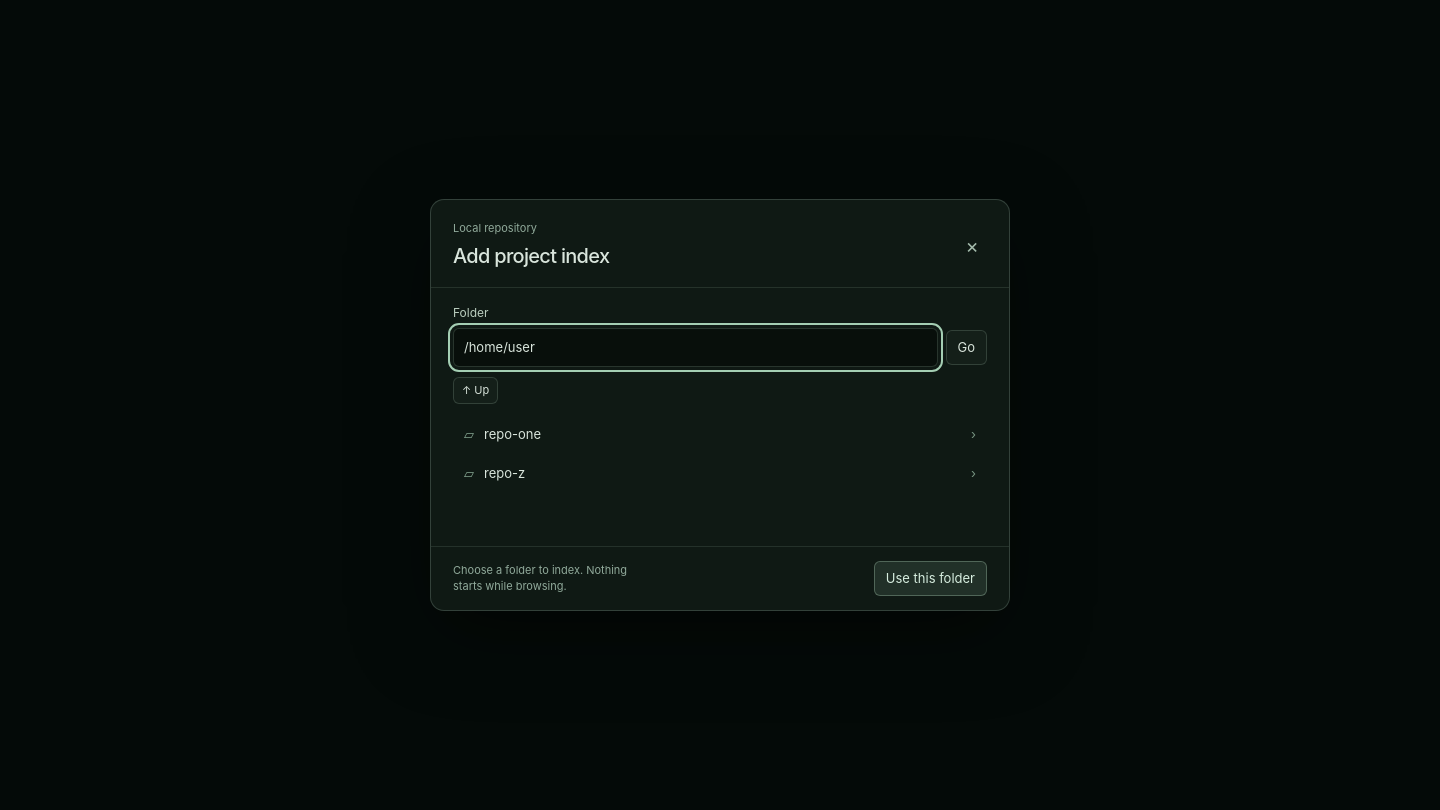
AddProjectIndexDialog › keeps an unconfirmed write explicit and never retries it automatically
This screenshot has width=1440, height=810.
Click the button "▱ repo-one ›": (513, 434) left=453, top=414, right=987, bottom=454
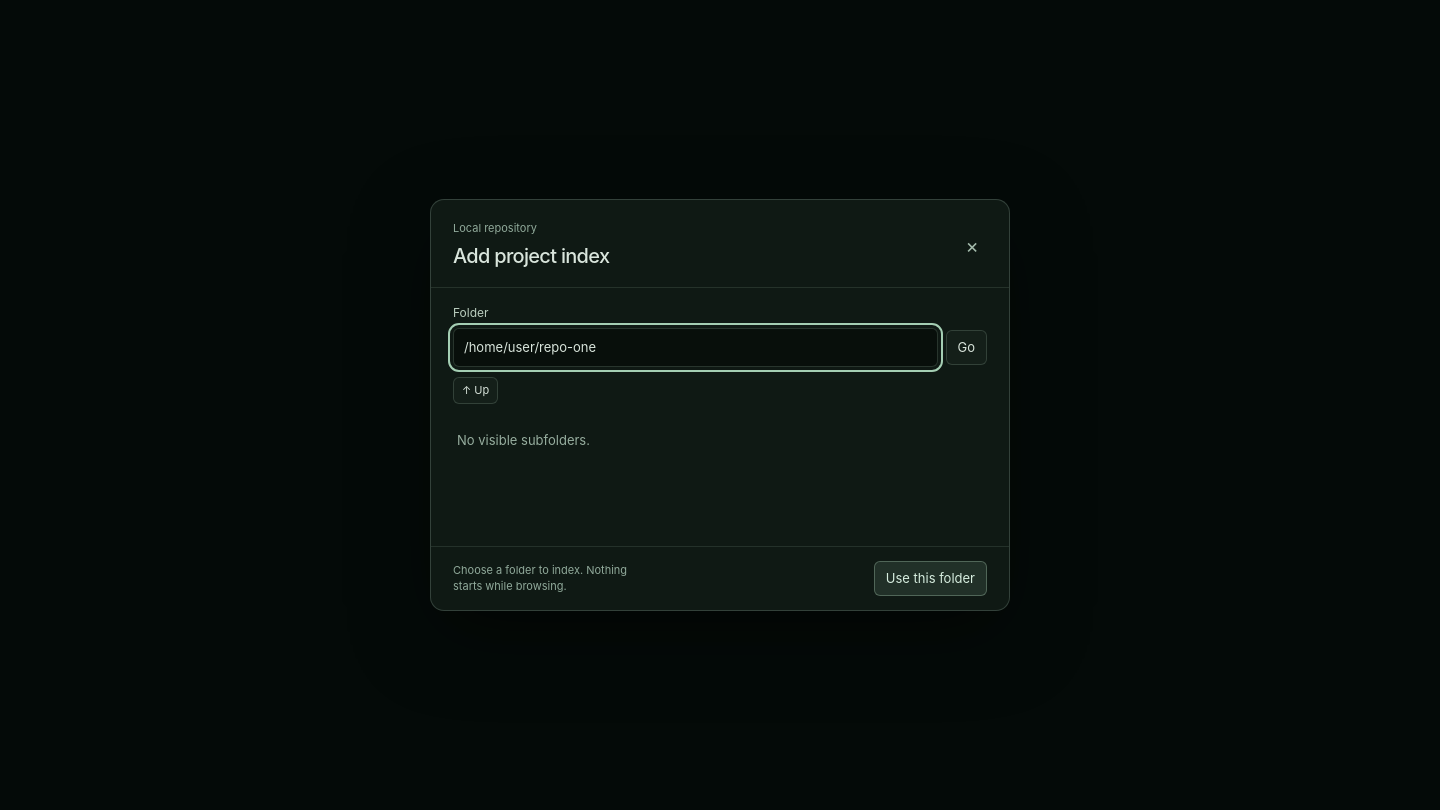
Click the button "Use this folder": (930, 578) left=874, top=560, right=987, bottom=596
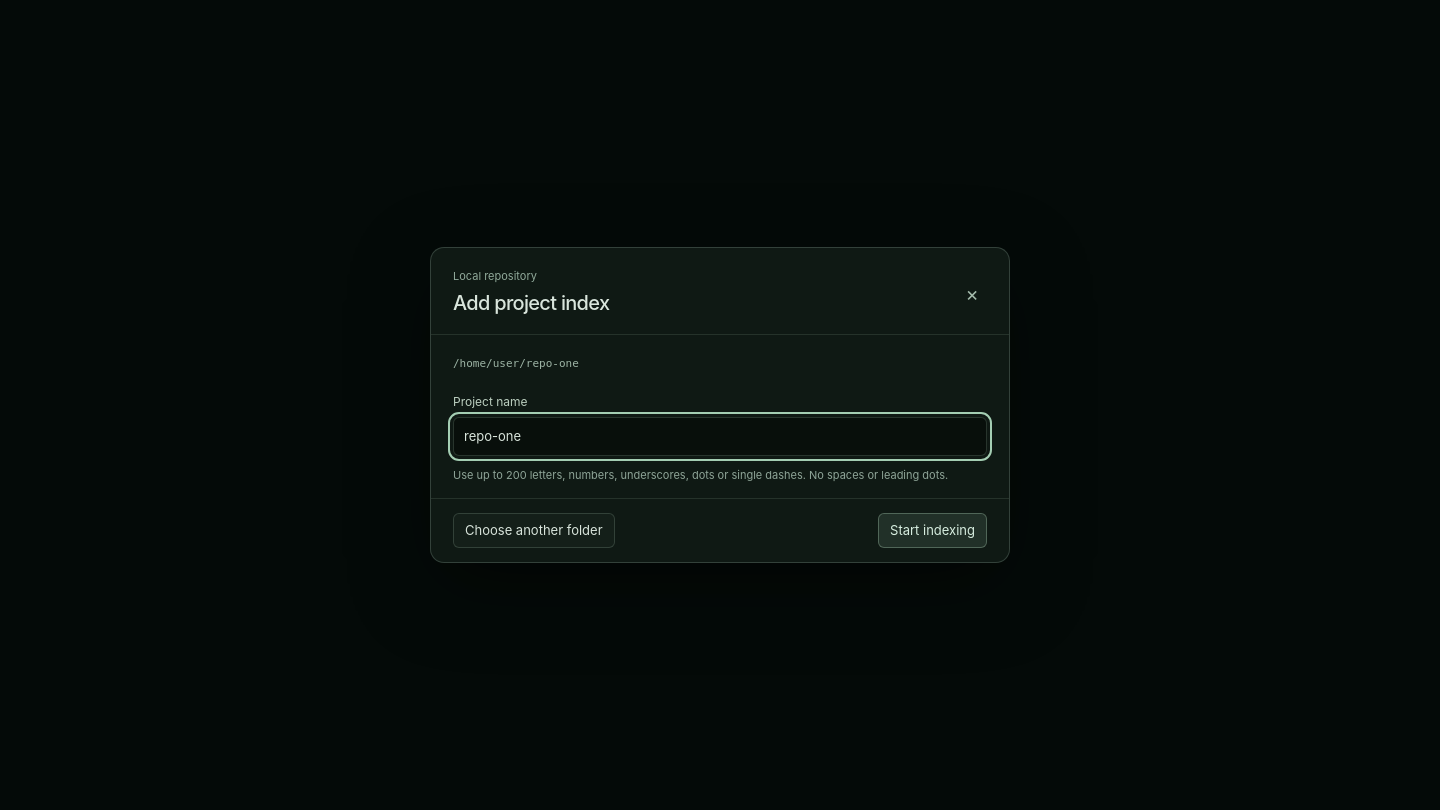
Click the button "Start indexing": (932, 531) left=878, top=513, right=987, bottom=548
Wait 25 ms
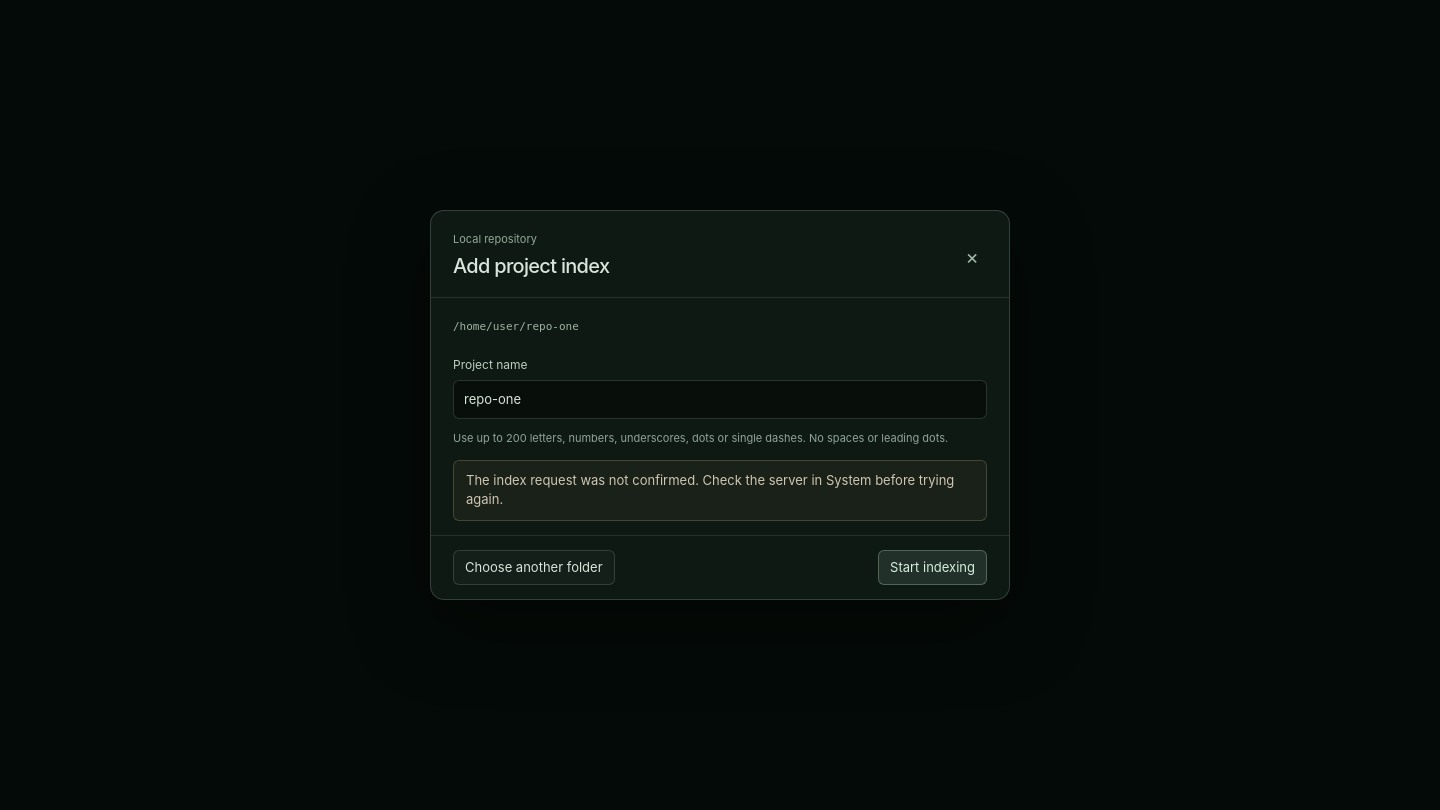
Expected: the text "The index request was not confirmed." is shown, left=466, top=472, right=954, bottom=507
